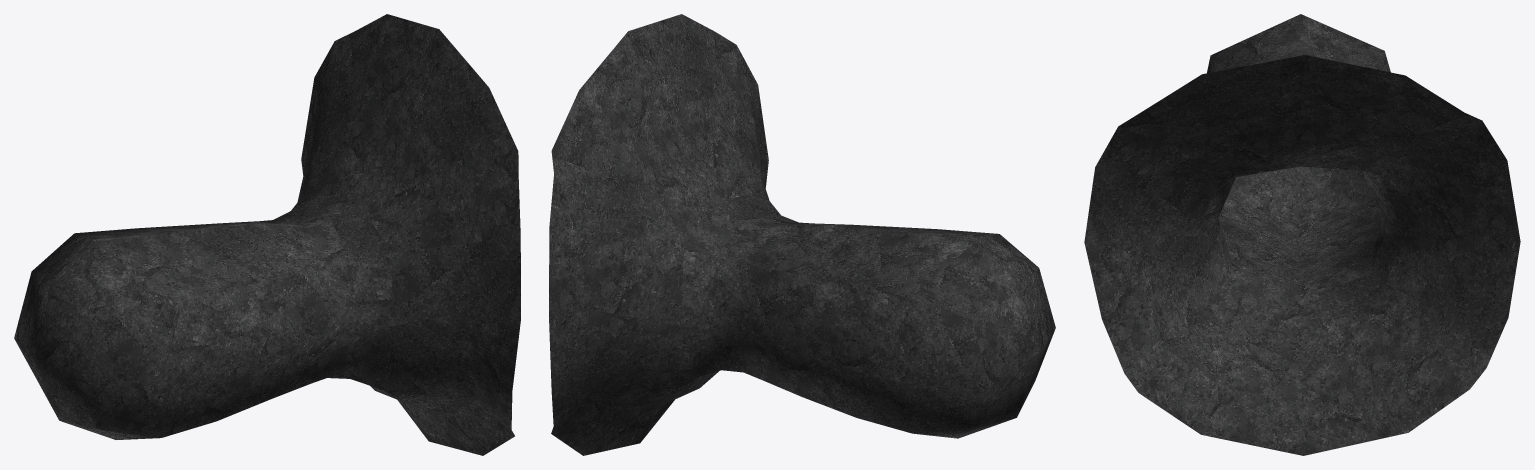
File: CaveCrawlspaceTransition.glb
3 renders of one model, left to right at view 1: azimuth 30°, elevation 25°; view 2: azimuth 150°, elevation 25°; view 3: azimuth 270°, elevation 25°, orthographic.
Visible parts, largest first — view 1: Cube.127; view 2: Cube.127; view 3: Cube.127.
Part boxes in pixels (box(x1,y1,x2,y2)): Cube.127: box(14, 14, 520, 455); Cube.127: box(549, 14, 1055, 455); Cube.127: box(1084, 14, 1520, 455).
Bounding box in the file's own units: 9.8 × 9.4 × 9.14.
1 material, 1 textured.
